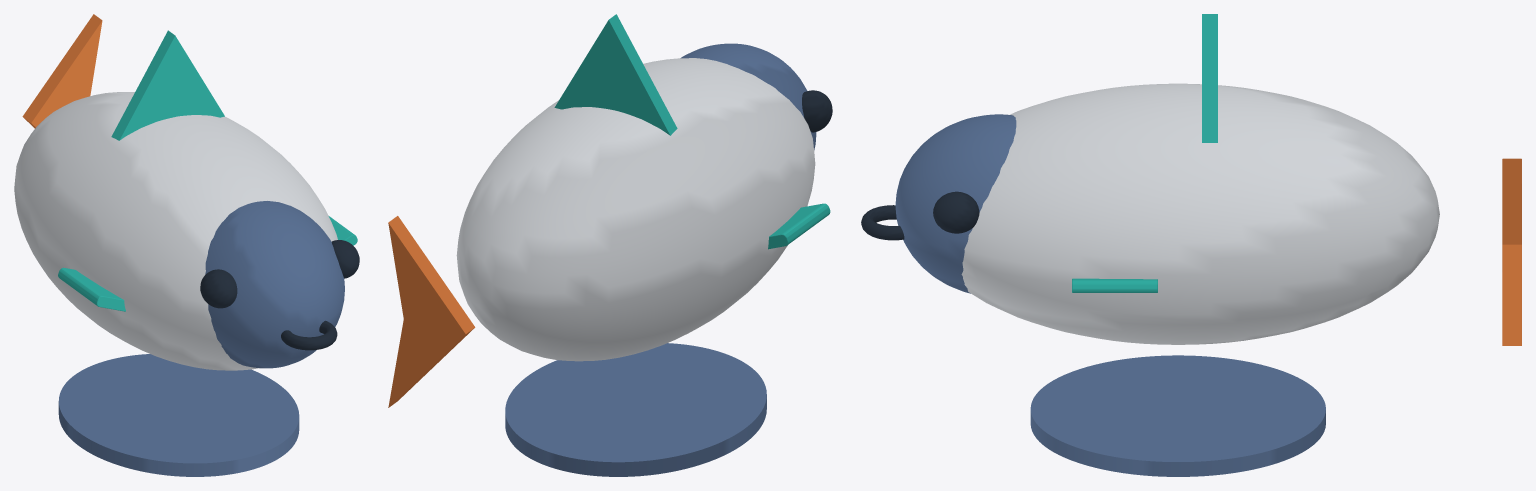
File: 0114_海洋动物图鉴_枪虾.glb
The picture shows the model from 3 angles, left to right: view 1: azimuth 30°, elevation 25°; view 2: azimuth 150°, elevation 25°; view 3: azimuth 270°, elevation 25°; orthographic projection. The views are drawn at different scales.
Visible parts, largest first — view 1: card_0114; view 2: card_0114; view 3: card_0114.
Boxes of the visible parts, x1,y1,x2,y2 form: card_0114: (14,14,359,476); card_0114: (388,14,832,476); card_0114: (861,14,1521,476).
Bounding box in the file's own units: 0.7247 × 1 × 1.45.
